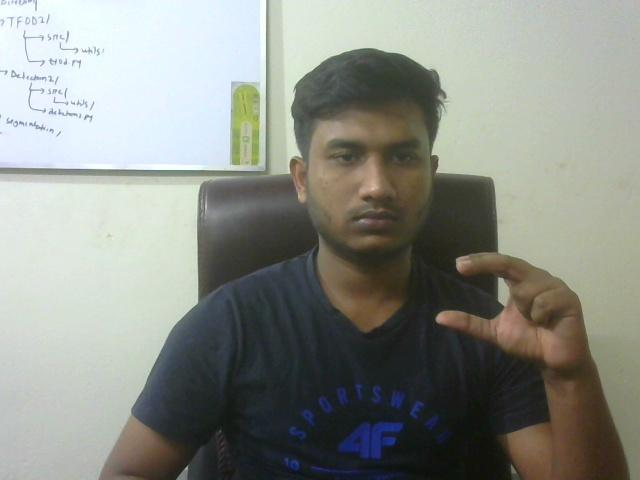No: (431, 232, 607, 384)
